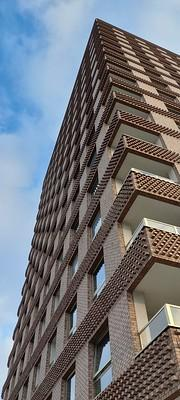building: (4, 1, 180, 399)
